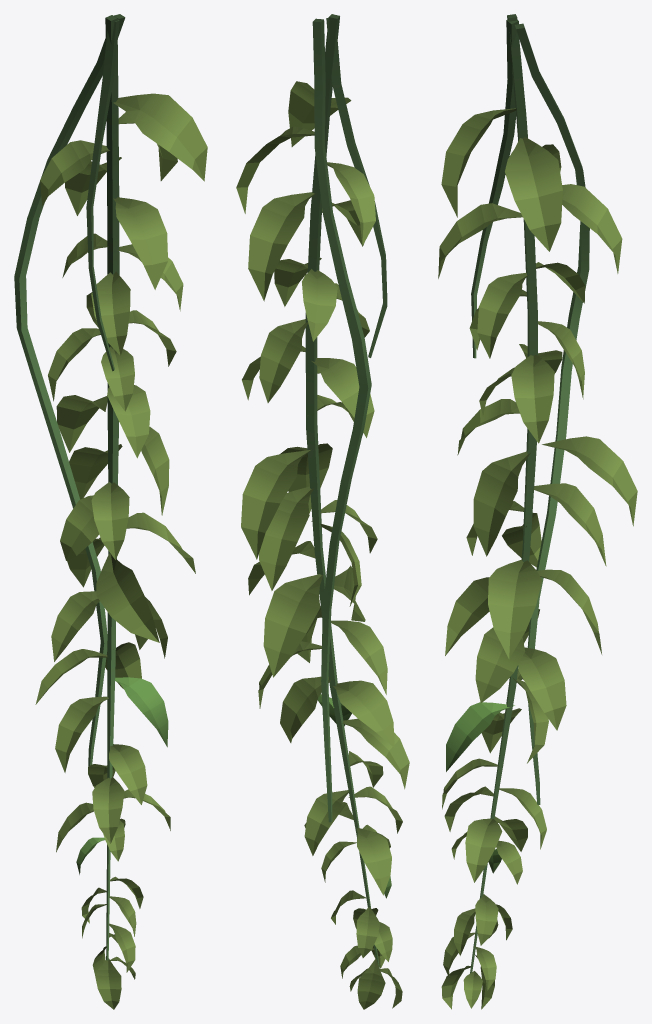
The model's file is Jungle_LeafyVines_F.fbx.
The picture shows the model from 3 angles, left to right: view 1: azimuth 30°, elevation 25°; view 2: azimuth 150°, elevation 25°; view 3: azimuth 270°, elevation 25°; orthographic projection. The views are drawn at different scales.
Visible parts, largest first — view 1: Jungle_LeafyVines_F; view 2: Jungle_LeafyVines_F; view 3: Jungle_LeafyVines_F.
Boxes of the visible parts, left/top/right/bottom form: Jungle_LeafyVines_F: left=14, top=14, right=207, bottom=1009; Jungle_LeafyVines_F: left=236, top=14, right=409, bottom=1009; Jungle_LeafyVines_F: left=438, top=14, right=637, bottom=1009.
Bounding box in the file's own units: 0.8003 × 4.92 × 0.882.
